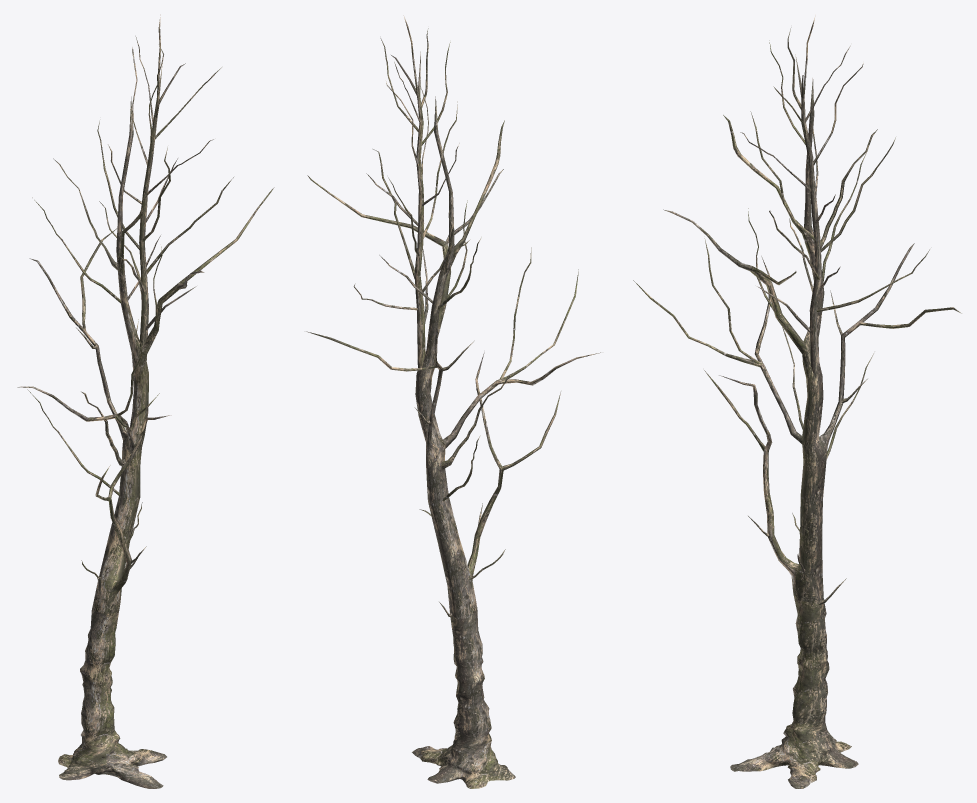
The model's file is SM_Tree_HighThick.fbx.
3 views of the same model, side by side, from view 1: azimuth 30°, elevation 25°; view 2: azimuth 150°, elevation 25°; view 3: azimuth 270°, elevation 25° (orthographic). The views are drawn at different scales.
Parts seen in each view (by area): view 1: SM_Tree_HighThick; view 2: SM_Tree_HighThick; view 3: SM_Tree_HighThick.
Part boxes in pixels (x1,y1,x2,y2): SM_Tree_HighThick: [17, 14, 274, 788]; SM_Tree_HighThick: [306, 15, 600, 788]; SM_Tree_HighThick: [633, 15, 961, 788].
Size of the model in its own units: 1602 by 1564 by 4058.
1 material, 1 textured.
